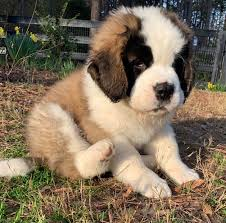dog: (1, 2, 195, 191)
